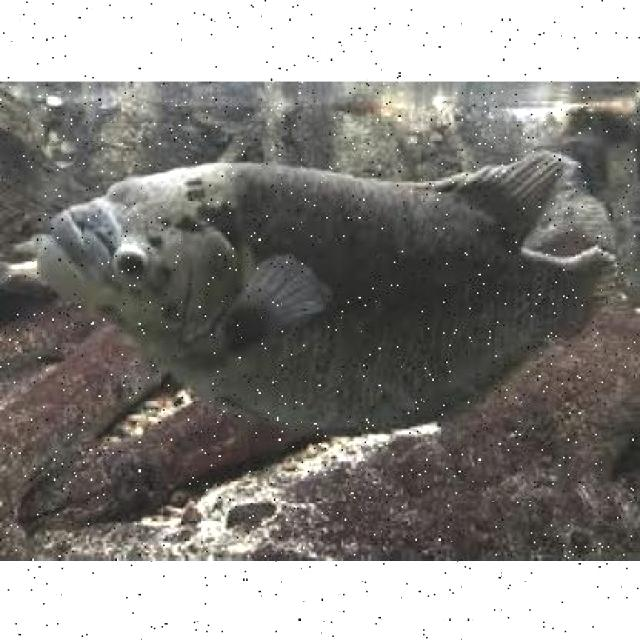gurame: (46, 150, 600, 424)
